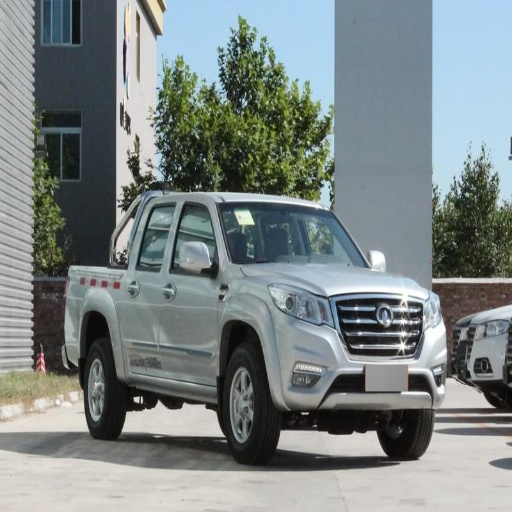front_bumper: (264, 294, 451, 406)
front_right_door: (160, 199, 219, 383)
front_right_light: (270, 284, 329, 324)
trunk: (52, 269, 115, 363)
